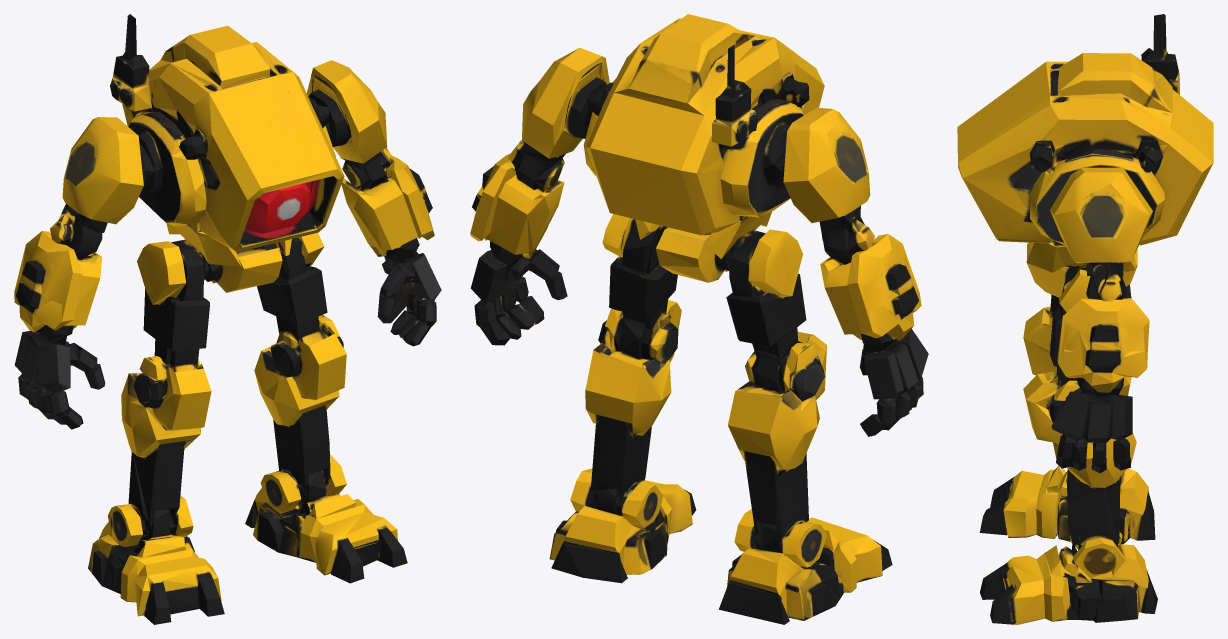
File: chaser_v2_meshy_raw.fbx
3 views of the same model, side by side, from view 1: azimuth 30°, elevation 25°; view 2: azimuth 150°, elevation 25°; view 3: azimuth 270°, elevation 25° (orthographic). The views are drawn at different scales.
Visible parts, largest first — view 1: output_unwrapped; view 2: output_unwrapped; view 3: output_unwrapped.
Boxes of the visible parts, bbox=[...] form: output_unwrapped: bbox=[14, 14, 441, 624]; output_unwrapped: bbox=[470, 14, 928, 624]; output_unwrapped: bbox=[957, 14, 1213, 624].
Size of the model in its own units: 151 by 190 by 85.16.
Materials: 1 (1 with a texture image).
